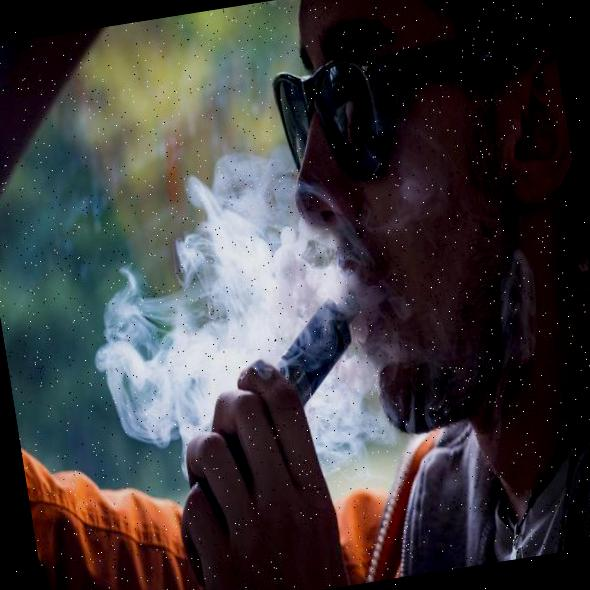smoke: (79, 148, 382, 484)
